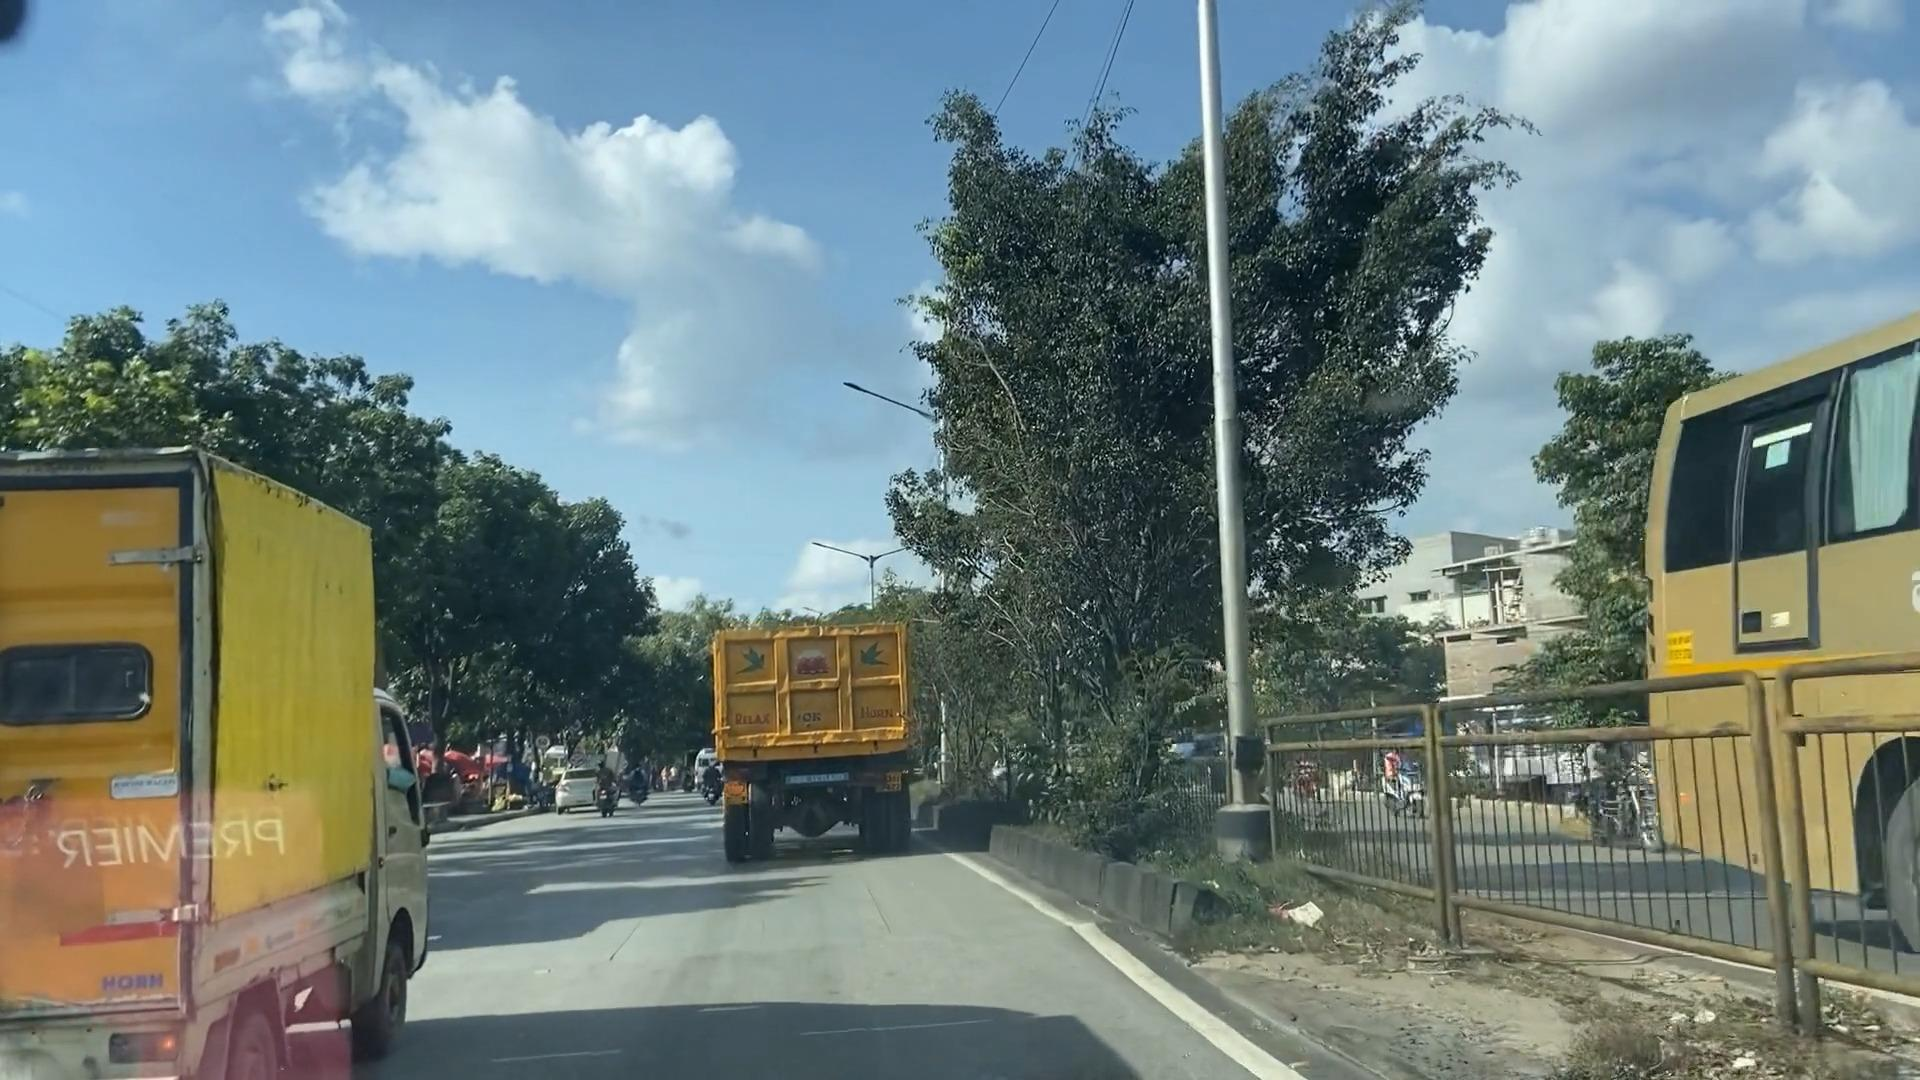HMV: (0, 446, 418, 1080), (705, 604, 927, 843)
